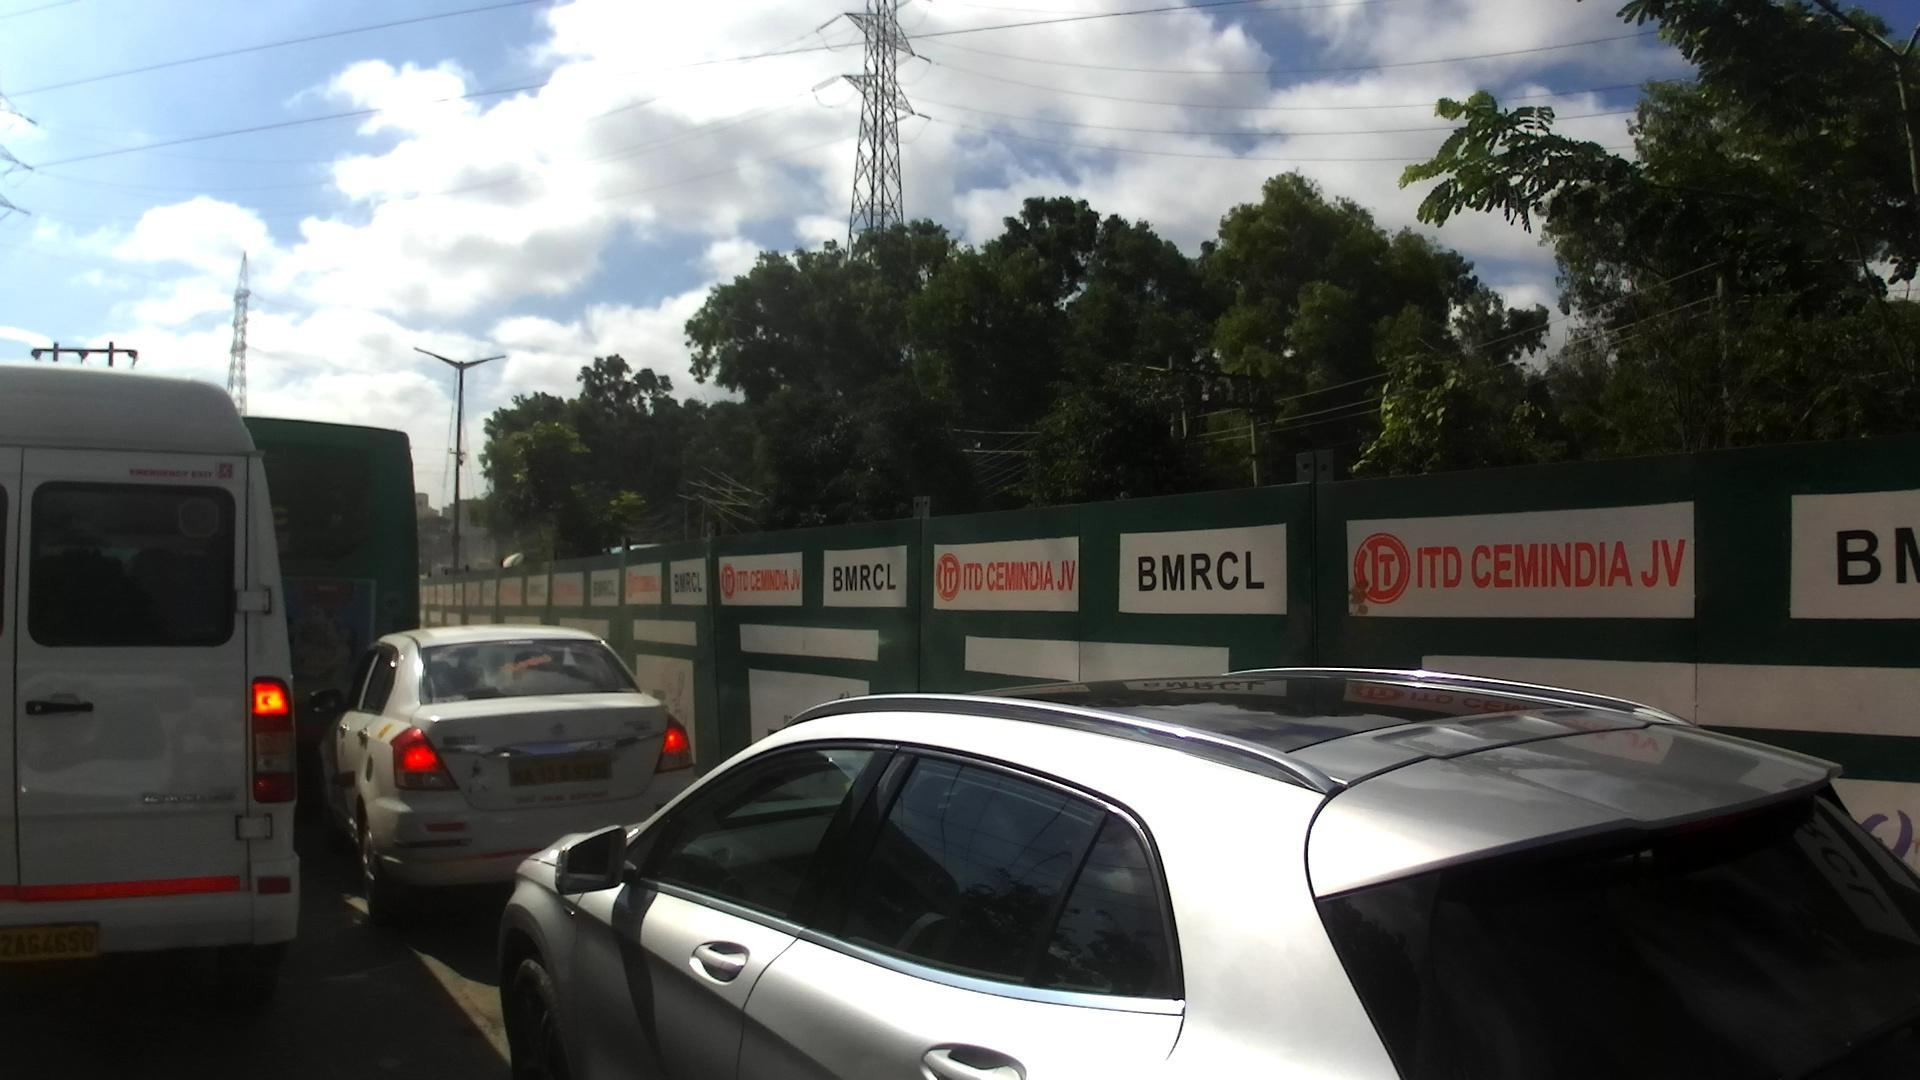off: (0, 0, 1606, 1080)
